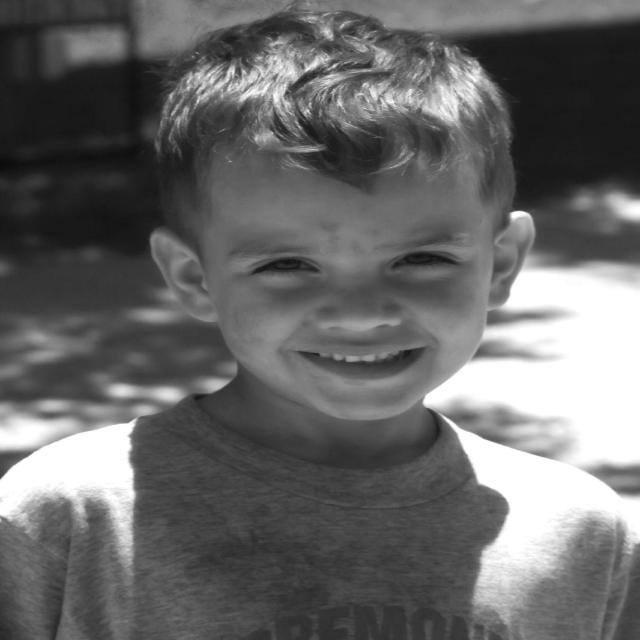no-glass: (244, 240, 466, 282)
